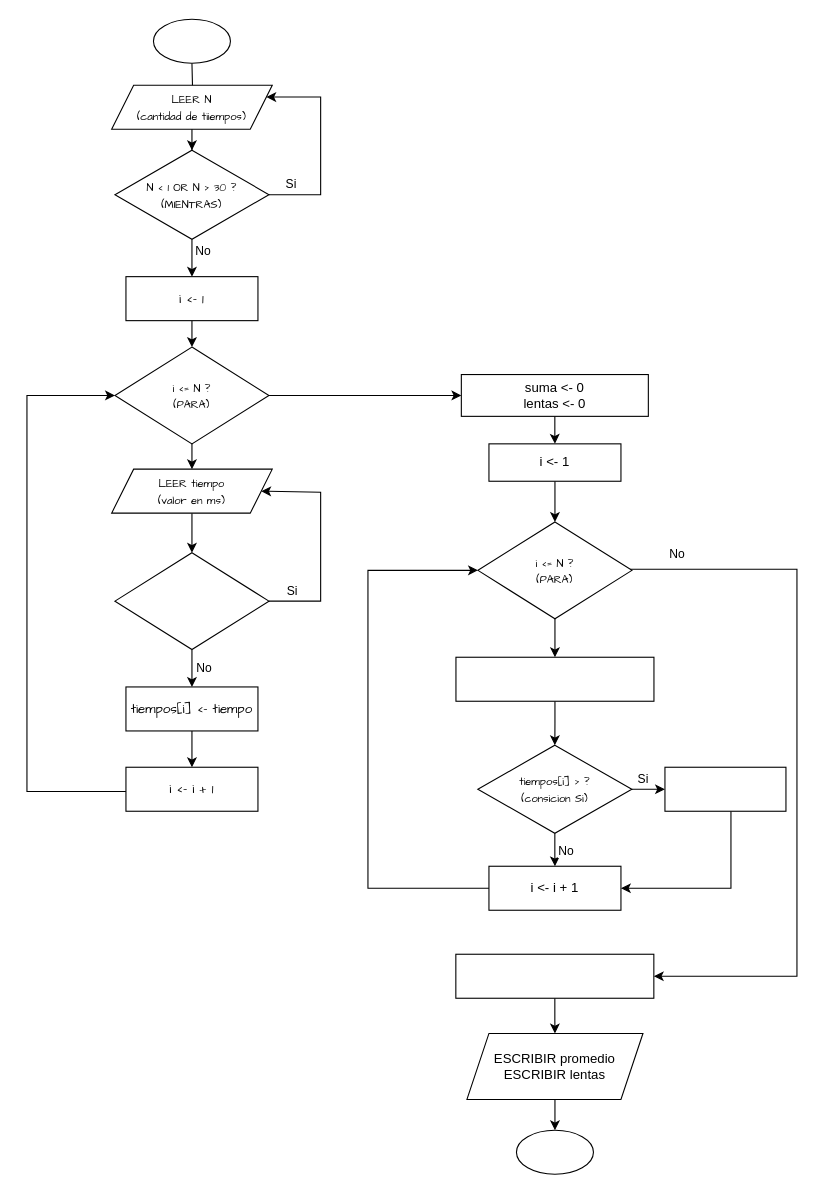
Some shapes in this 825 by 1194 pixel diagram are drawn without their labels. Here are the shapes that lost their labels. From the top down, the box of each, then its label:
(152, 18, 230, 63): INICIO
(114, 552, 269, 650): tiempo <= 0 ? (MIENTRAS)
(455, 656, 654, 701): suma <- suma + tiempos[i]
(664, 766, 786, 811): lentas <- lentas + 1
(455, 953, 654, 998): promedio <- suma / N
(515, 1129, 593, 1174): FIN
